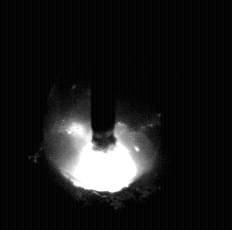arame: (91, 0, 117, 152)
poca: (43, 0, 161, 230)
